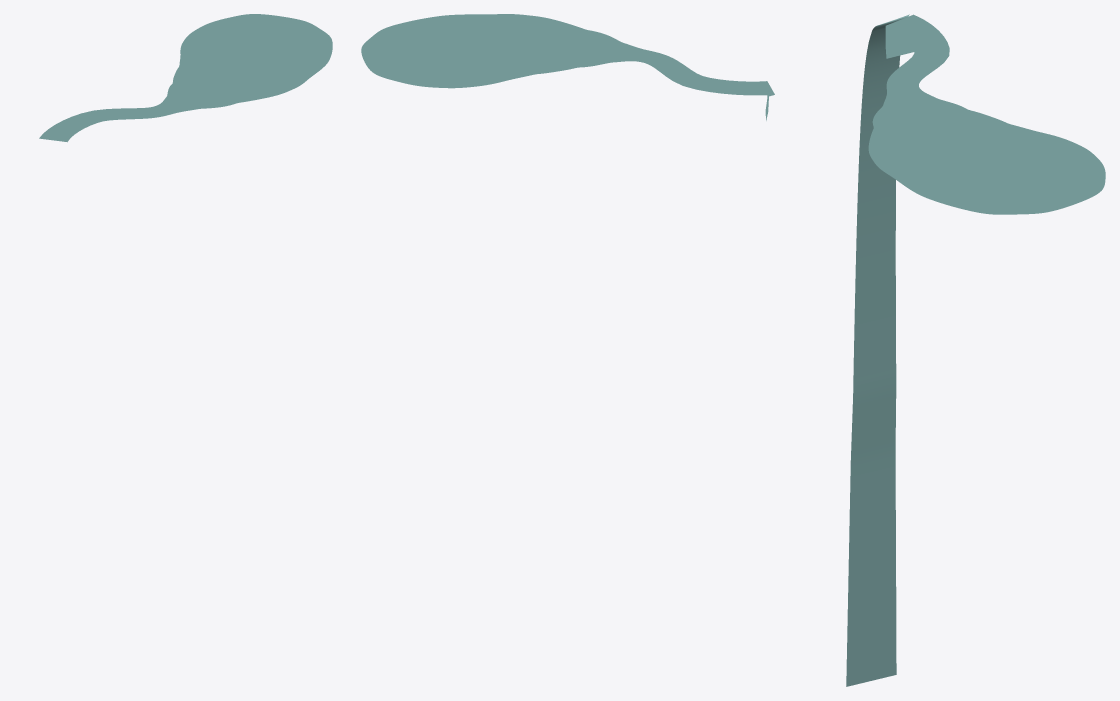
File: water_main.glb
The picture shows the model from 3 angles, left to right: view 1: azimuth 30°, elevation 25°; view 2: azimuth 150°, elevation 25°; view 3: azimuth 270°, elevation 25°; orthographic projection. The views are drawn at different scales.
Parts seen in each view (by area): view 1: water_pond; view 2: water_pond; view 3: water_fall, water_pond, water_fall_skirt.
Part boxes in pixels (x1,y1,x2,y2): water_pond: (39,14,332,142); water_pond: (361,14,774,95); water_fall: (846,14,909,686); water_pond: (868,14,1105,214); water_fall_skirt: (885,26,913,58).
Size of the model in its own units: 7.37 by 10.54 by 3.63.
